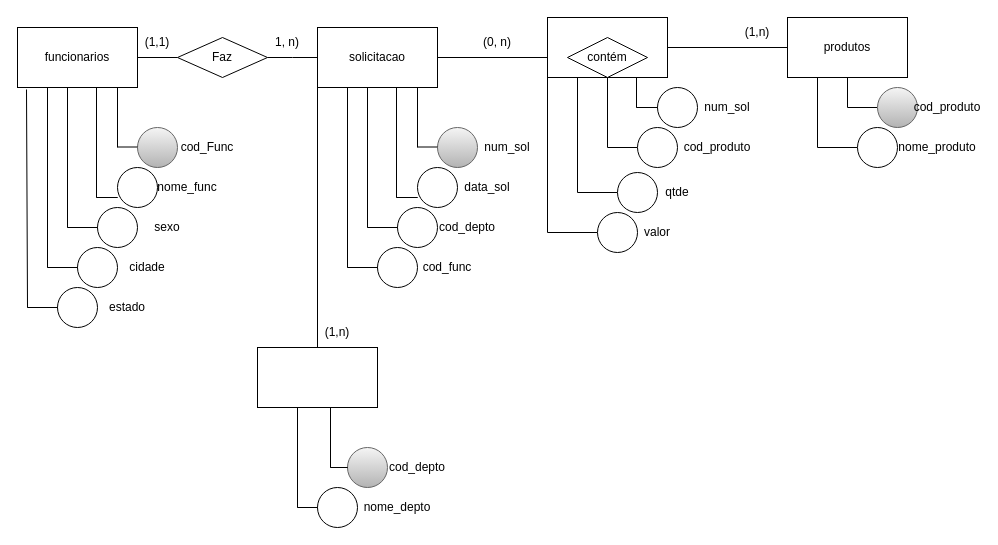
Some shapes in this 998 by 545 pixel diagram are drawn without their labels. The box of each missing label's shape, as (x1, y1, x2, y2) in pixels:
departamentos: (256, 346, 378, 408)
itenssolicitacao: (546, 16, 668, 78)
